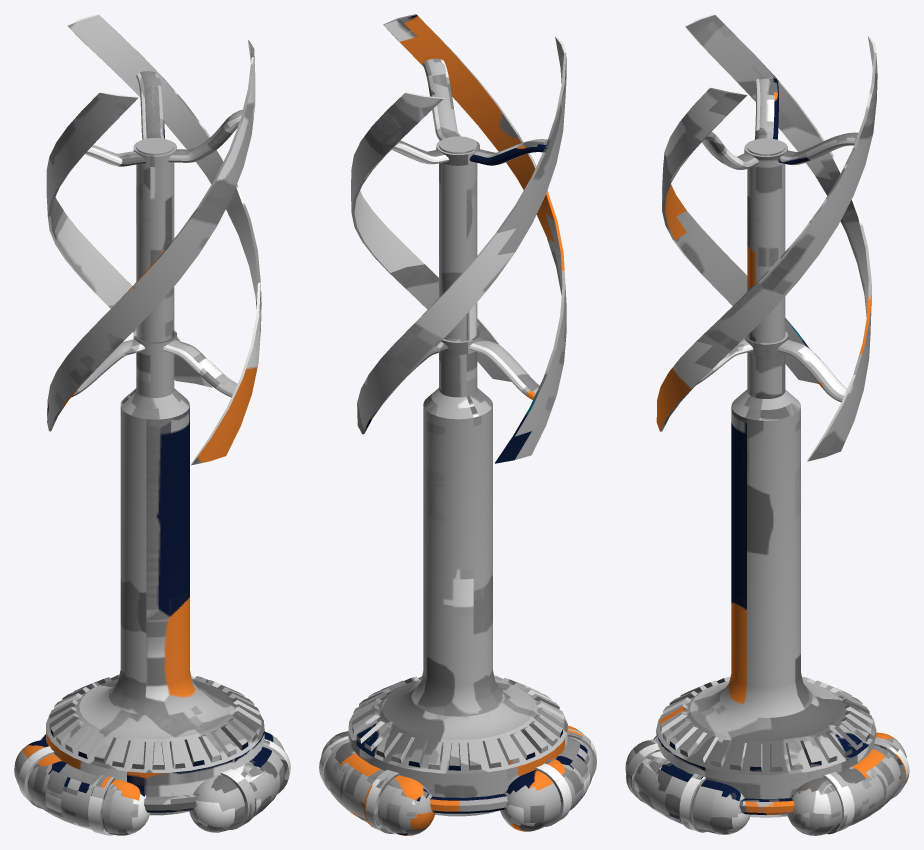
File: Wind_Turbine_Unity.fbx
3 views of the same model, side by side, from view 1: azimuth 30°, elevation 25°; view 2: azimuth 150°, elevation 25°; view 3: azimuth 270°, elevation 25° (orthographic).
Visible parts, largest first — view 1: Circle.002; view 2: Circle.002; view 3: Circle.002.
Part boxes in pixels (box(x1,y1,x2,y2)): Circle.002: box(14, 14, 290, 835); Circle.002: box(319, 14, 596, 835); Circle.002: box(625, 14, 909, 835).
Size of the model in its own units: 1088 by 3324 by 1157.
